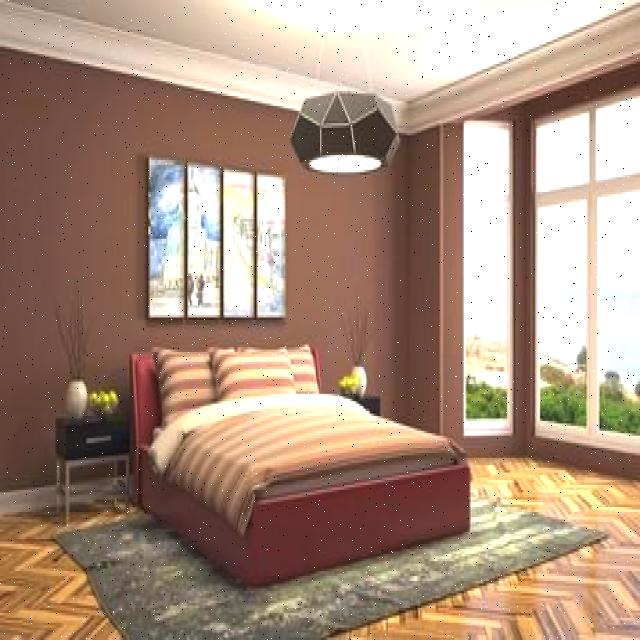bed: (126, 331, 465, 488)
